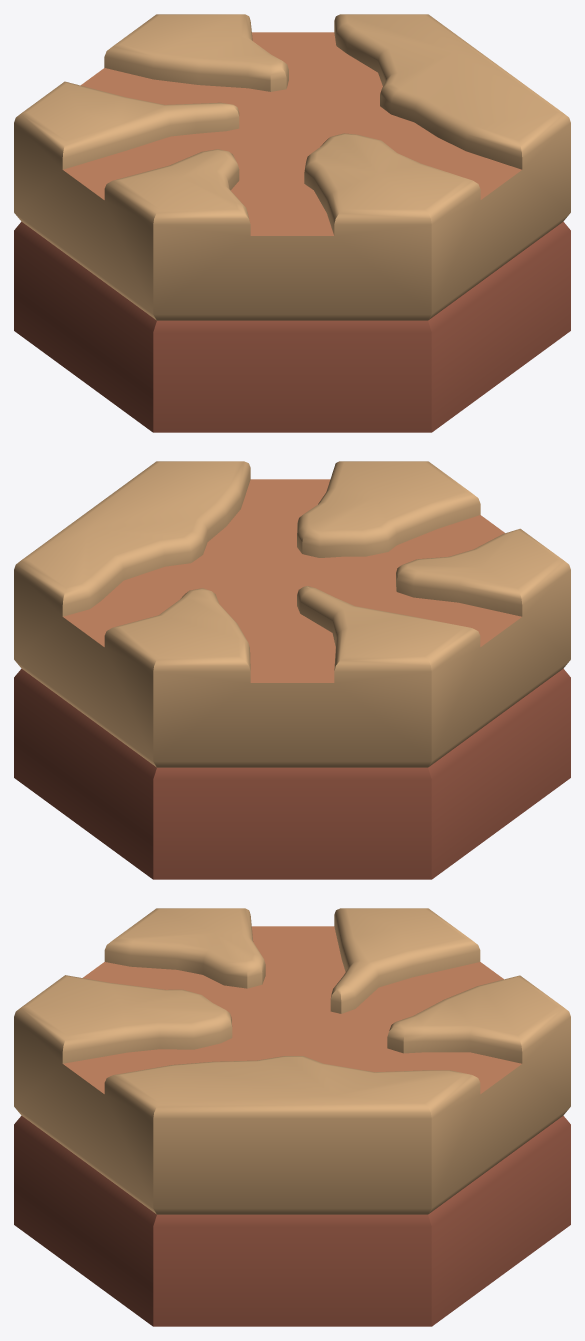
File: hex_sand_roadl_detail.glb
The picture shows the model from 3 angles, top to bottom: view 1: azimuth 30°, elevation 25°; view 2: azimuth 150°, elevation 25°; view 3: azimuth 270°, elevation 25°; orthographic projection.
Parts seen in each view (by area): view 1: hex_sand_roadL_detail; view 2: hex_sand_roadL_detail; view 3: hex_sand_roadL_detail.
Boxes of the visible parts, box(x1,y1,x2,y2) form: hex_sand_roadL_detail: box(14, 14, 570, 432); hex_sand_roadL_detail: box(14, 461, 570, 879); hex_sand_roadL_detail: box(14, 908, 570, 1326).
Size of the model in its own units: 8 by 4 by 9.24.
